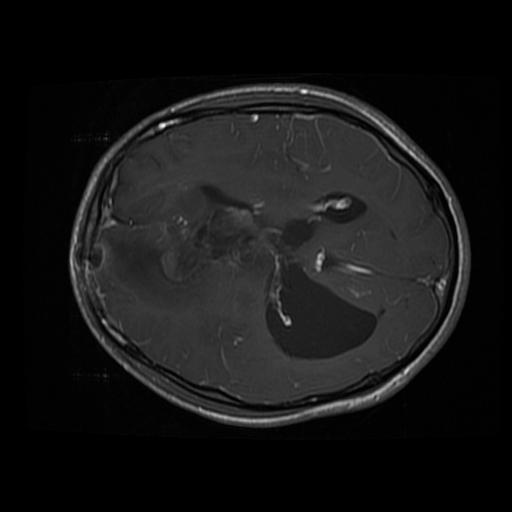glioma: (106, 178, 265, 305)
